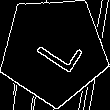L_NW: (25, 23, 83, 77)
